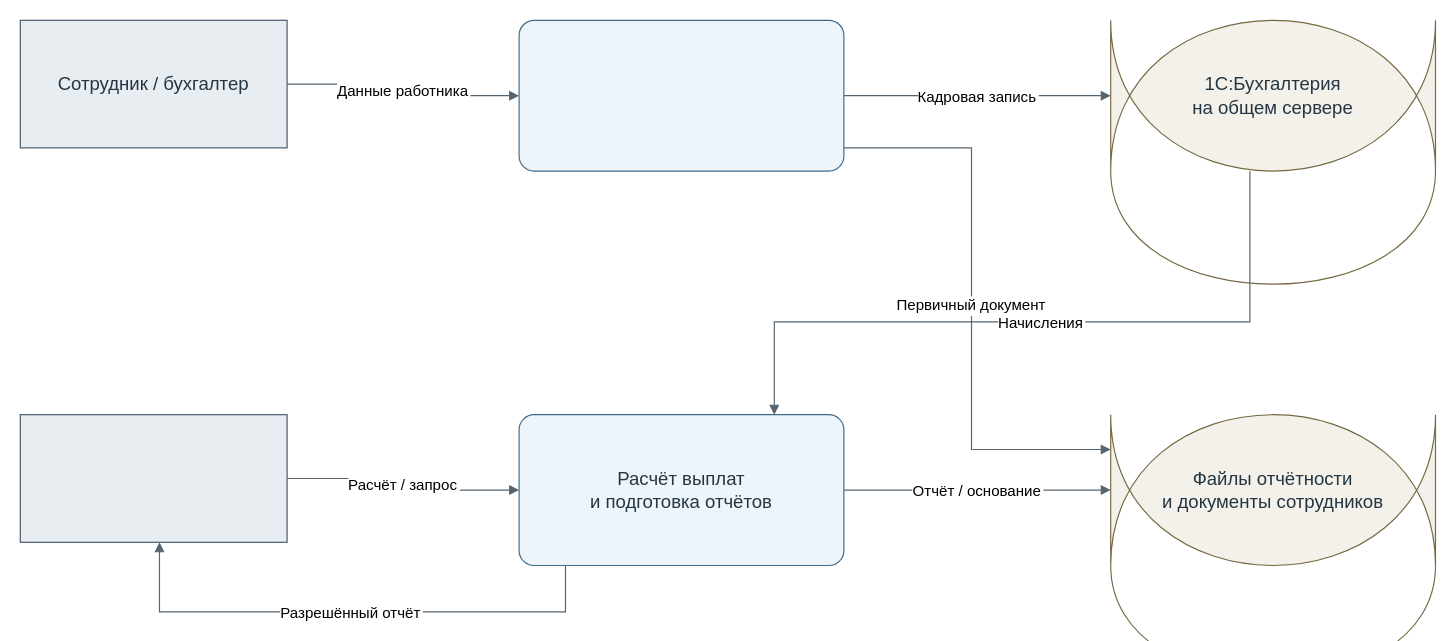
The diagram is 1456 pixels wide and 641 high, and some of its shapes have lost their labels. The shapes that lost their labels are listed below. From the top down, each one's box as (x1, y1, x2, y2) in pixels, then its label:
(518, 19, 844, 171): Ввод кадров и зарплаты в файловую 1С
(19, 414, 287, 542): Бухгалтер / кадровик
